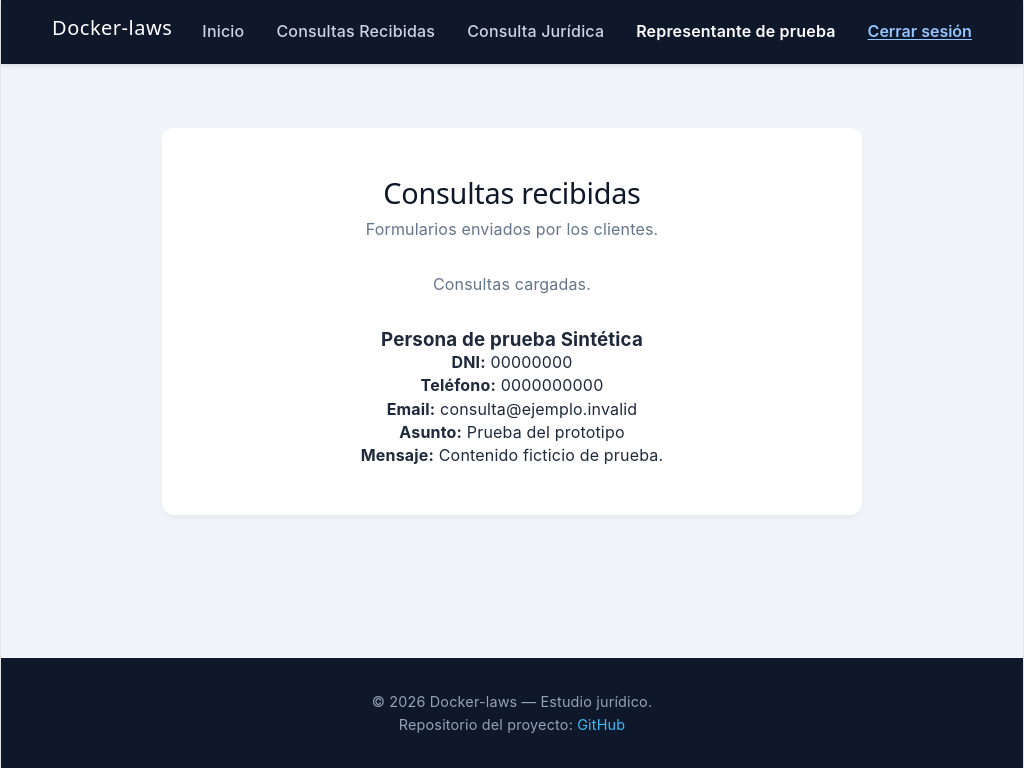
Test case: cierra la sesión local de inmediato y comunica una revocación sin confirmar
Expected: the text "consulta@ejemplo.invalid" is shown, [440, 399, 637, 419]
Click the button "Cerrar sesión" at point(920, 32), box [868, 20, 972, 43]
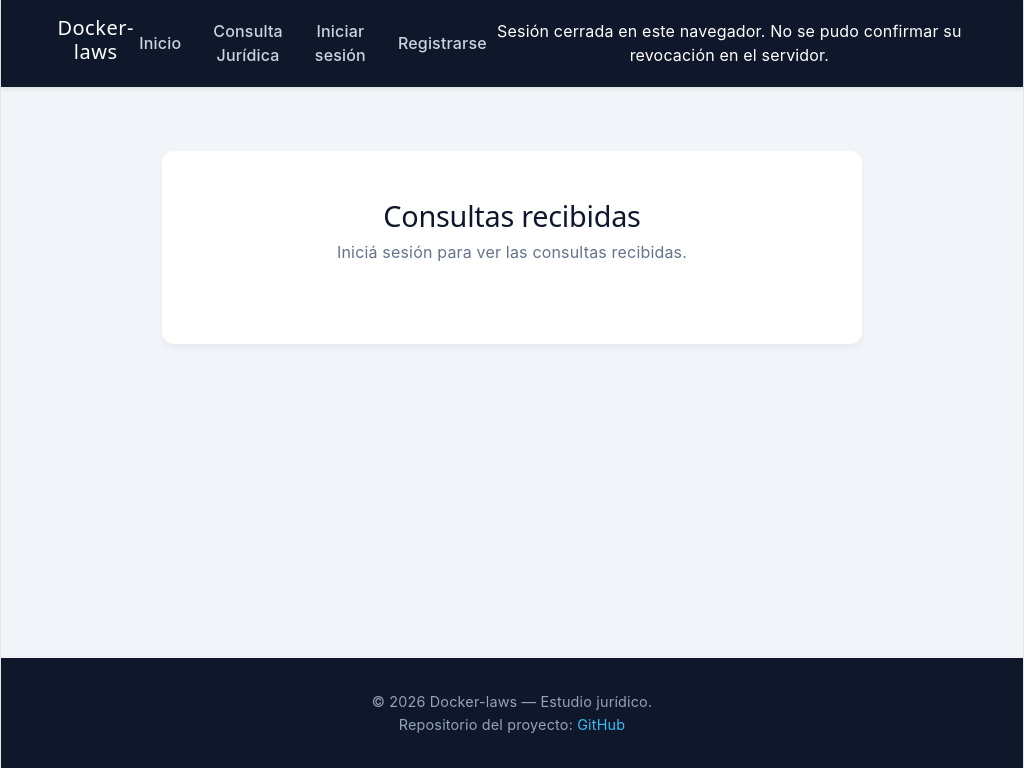
Expected: the text "consulta@ejemplo.invalid" is gone
Expected: the text "Sesión cerrada en este navegador. No se pudo confirmar su revocación en el servidor." is shown, [497, 21, 962, 65]
